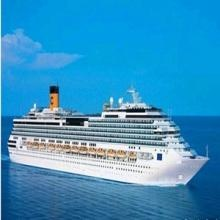youlun: (10, 81, 212, 187)
